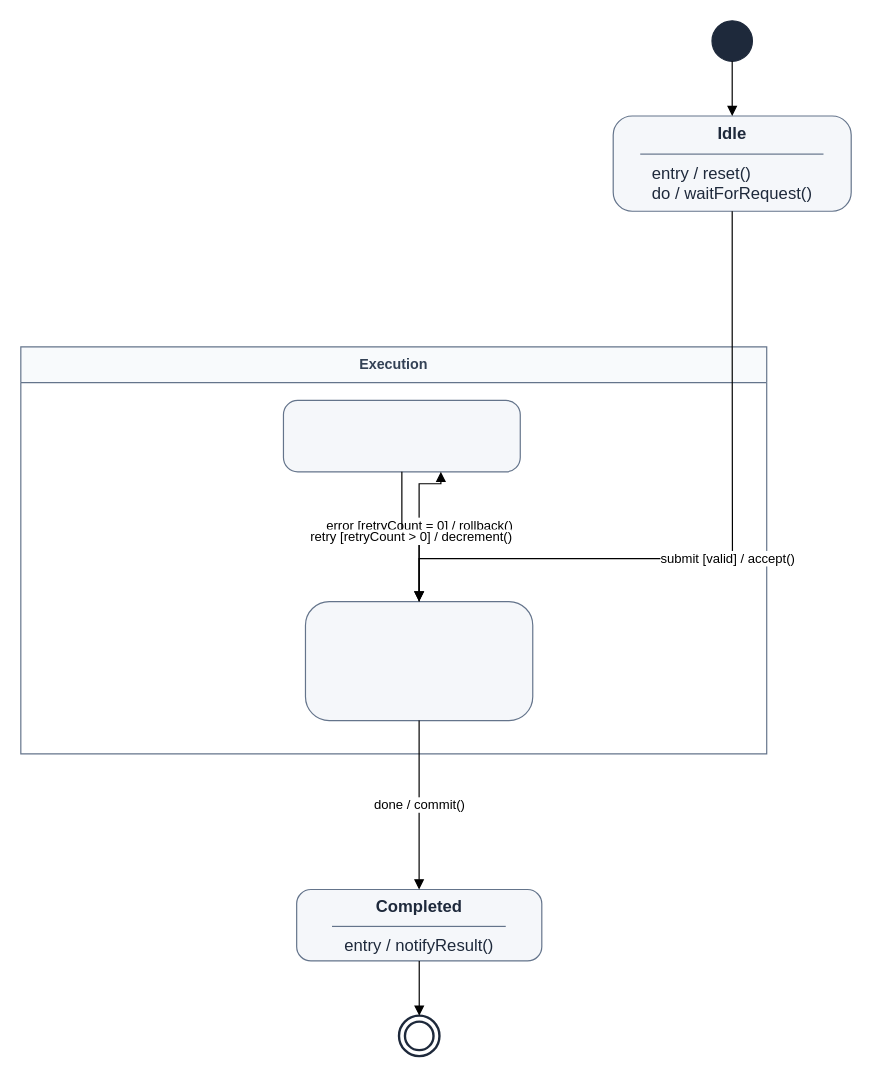
This 872x1078 diagram has some shape labels left out. The centre of each missing label's shape, as x and y in pixels:
"Failed entry / recordError()" belongs at [401,435].
"Processing entry / startTimer() do / process() exit / stopTimer()" belongs at [418,660].
